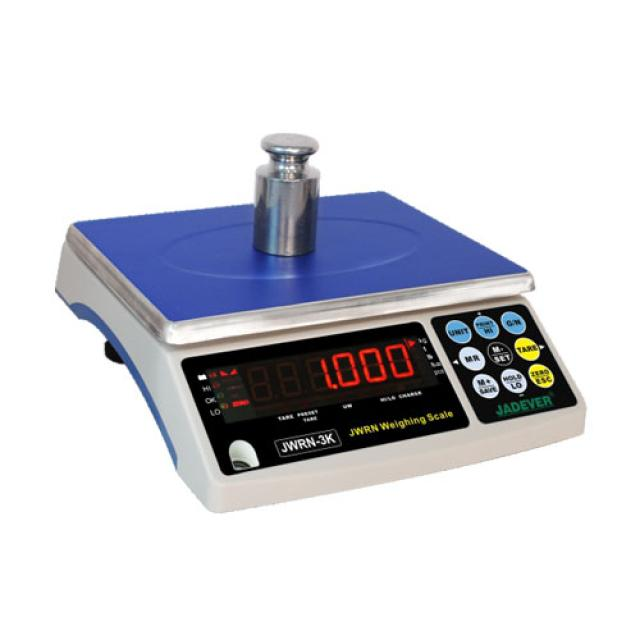.: (332, 383, 340, 391)
0: (357, 347, 388, 382), (384, 343, 414, 377), (331, 351, 360, 385)
1: (317, 354, 334, 393)
screen: (263, 340, 431, 394)
